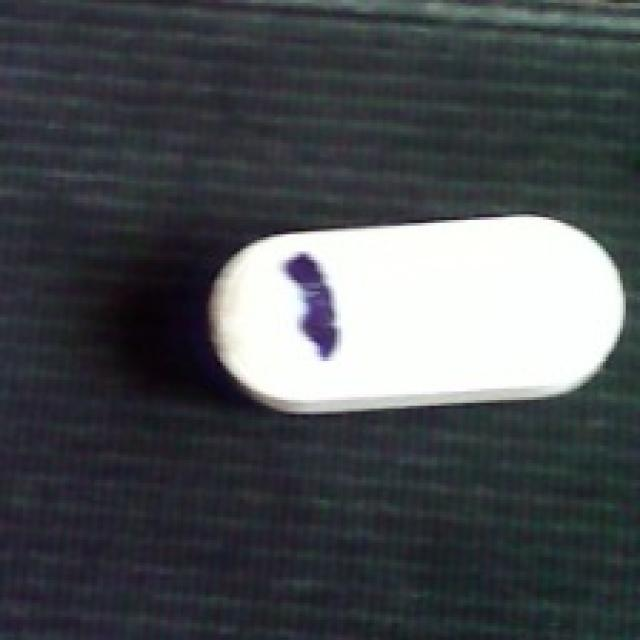defected: (192, 209, 632, 414)
